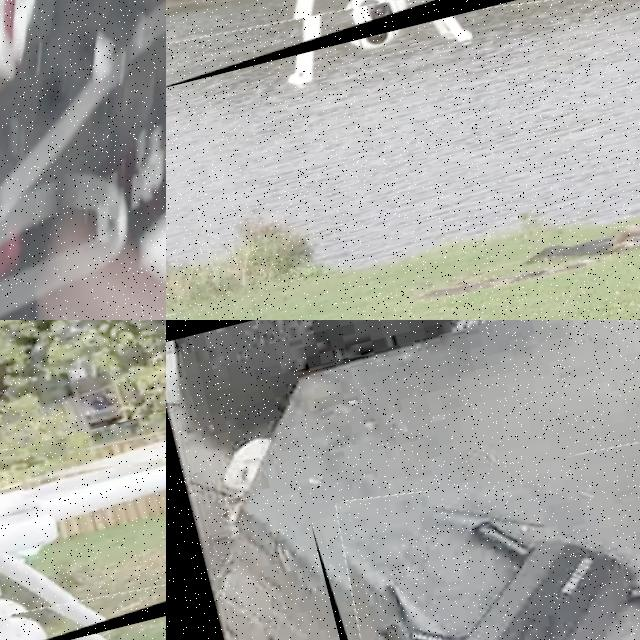drone: (309, 428, 640, 640), (0, 0, 166, 320), (0, 360, 166, 640), (166, 0, 616, 95)
